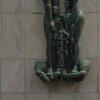Statue: (31, 4, 91, 86)
